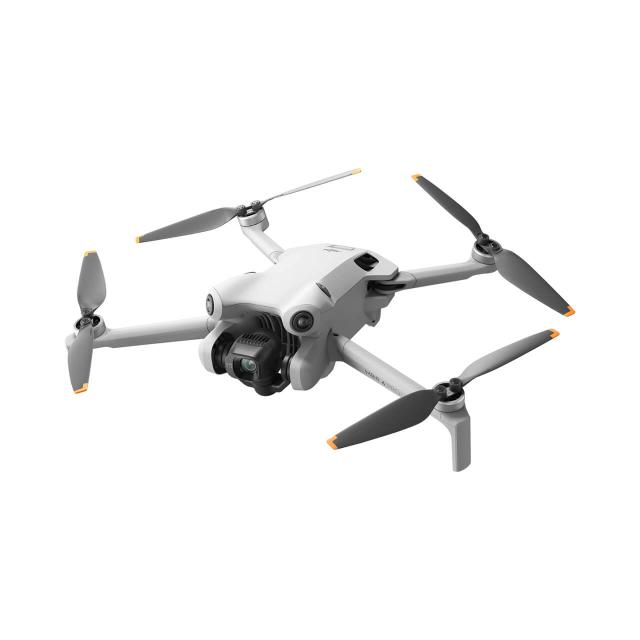UAV - Drone: (0, 164, 640, 487)
